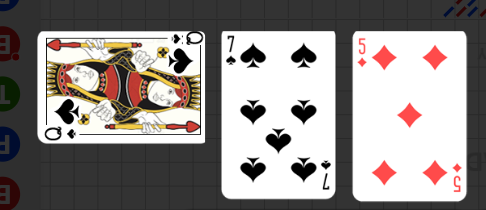7S: (225, 34, 238, 67)
9D: (356, 36, 368, 69)
9S: (42, 126, 79, 143)
